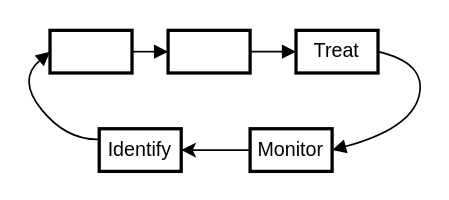
This 449x200 diagram has some shape labels left out. Each missing label, with the centre of its shape:
Analyze: the point at 90,51
Assess: the point at 208,51
